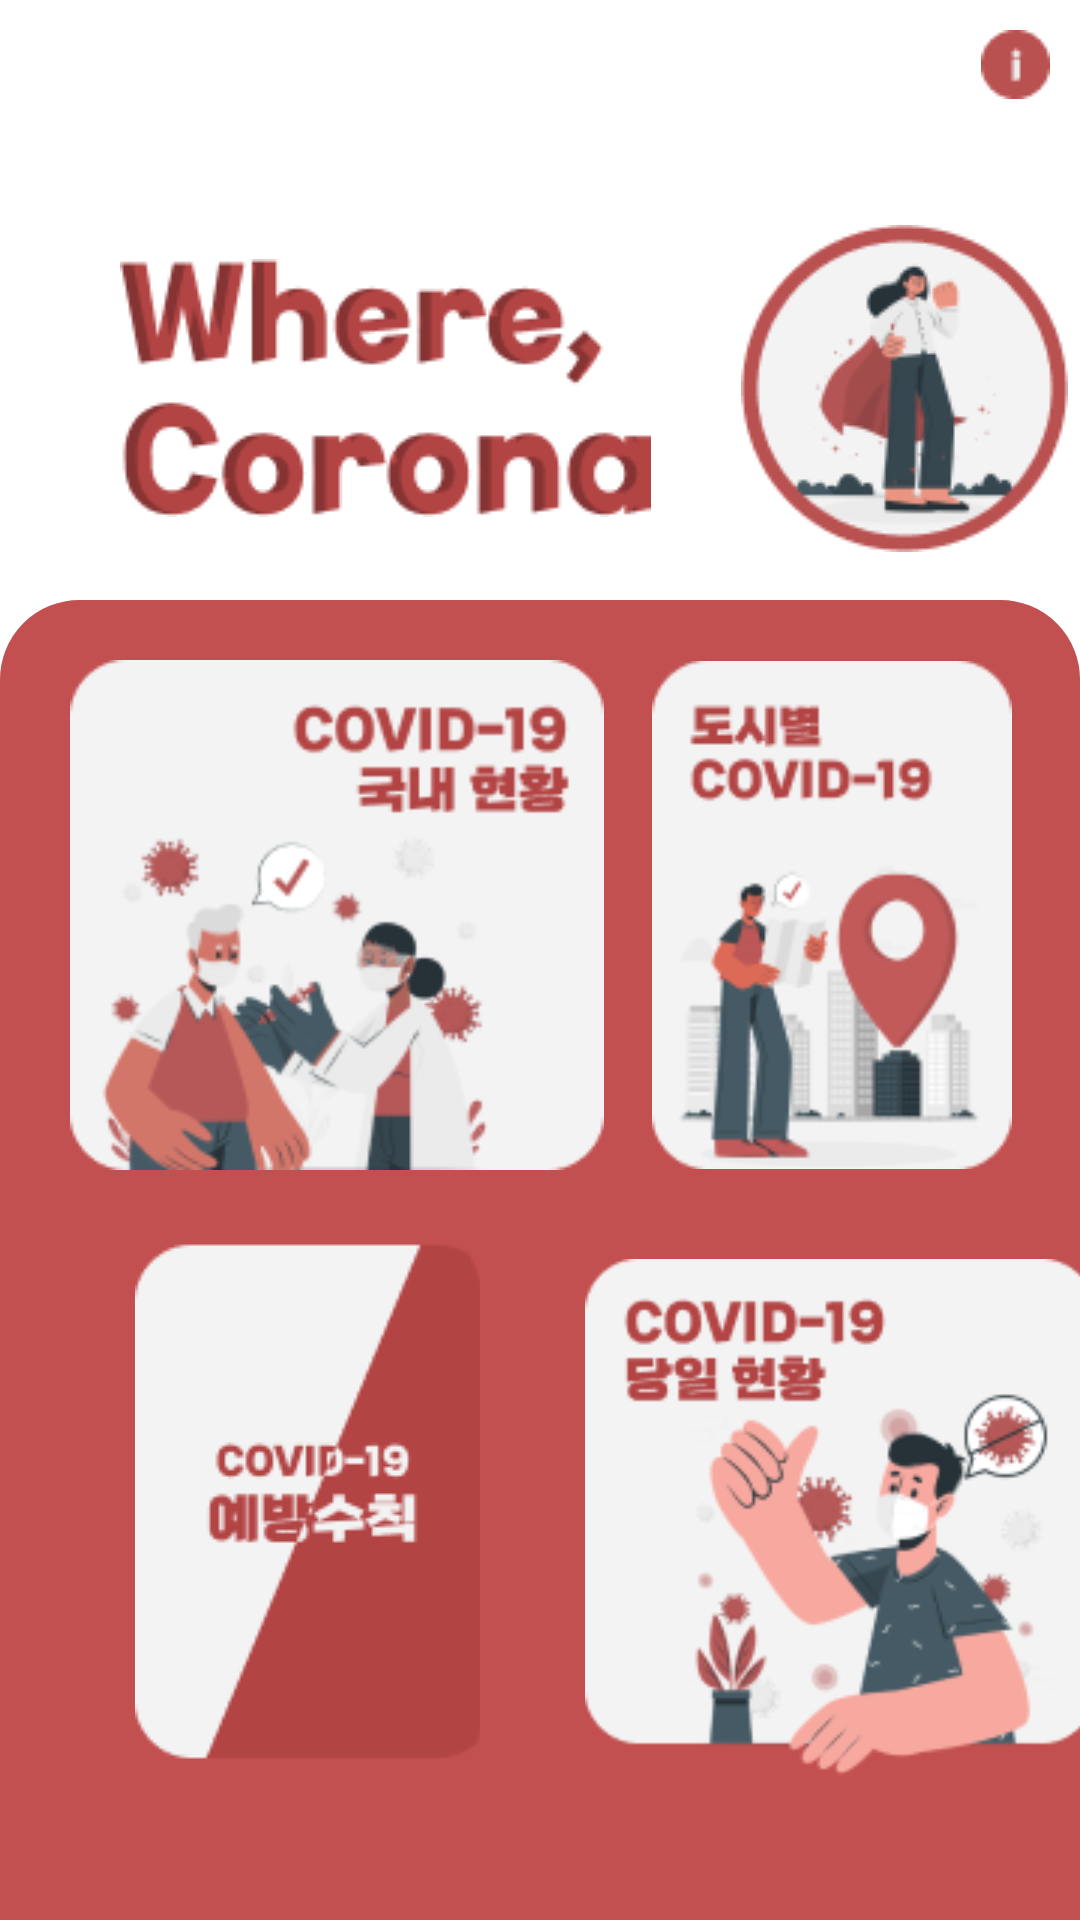

Point at icon controls on the screen. Image size 1080 x 1920, points as [x,y].
mainimage: [904,388]
